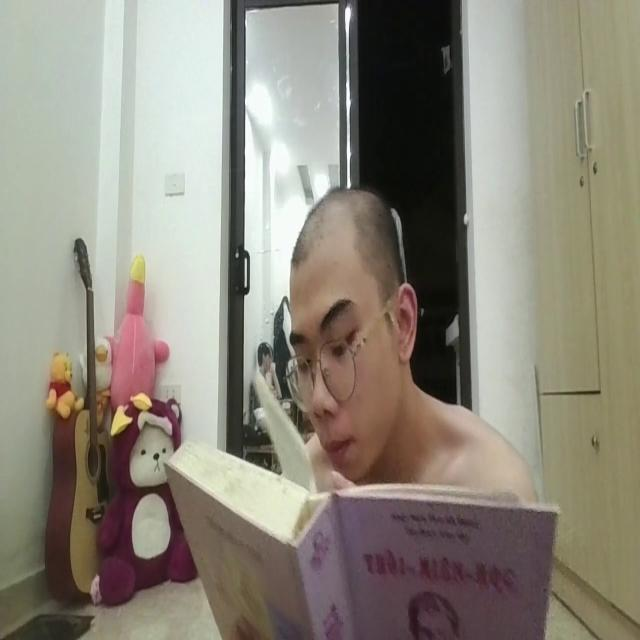book: (163, 431, 560, 640)
student: (284, 182, 543, 508)
